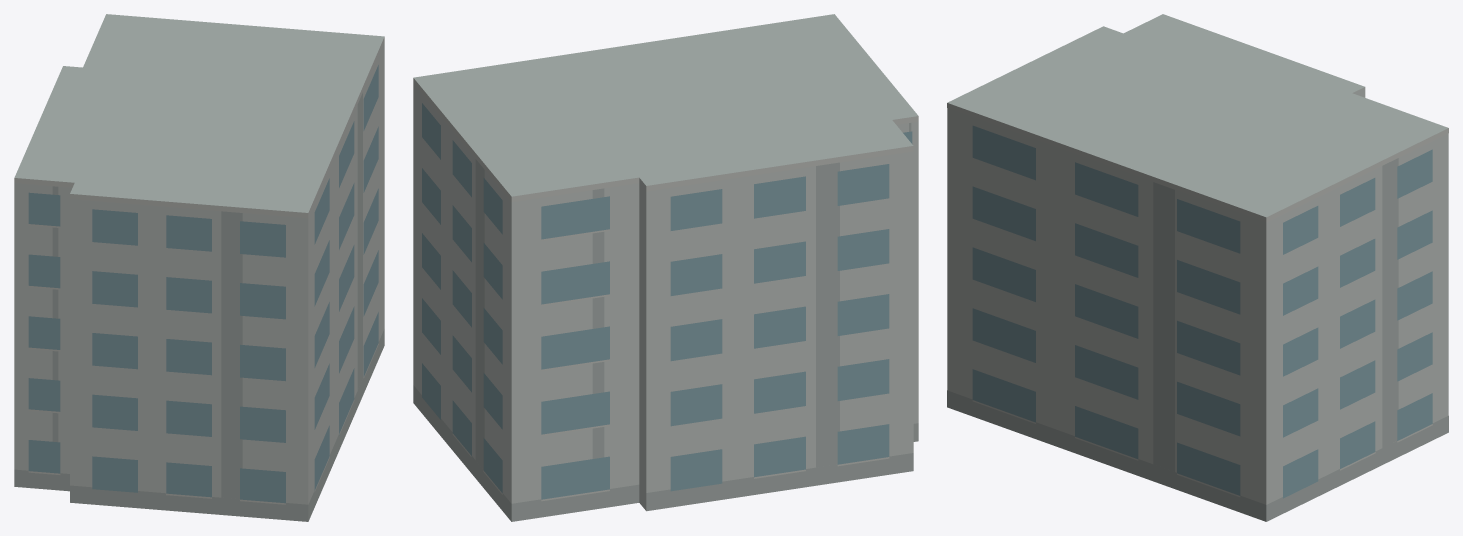
Rendered from survey-upis-32952085.glb.
3 renders of one model, left to right at view 1: azimuth 30°, elevation 25°; view 2: azimuth 150°, elevation 25°; view 3: azimuth 270°, elevation 25°, orthographic. The views are drawn at different scales.
Parts seen in each view (by area): view 1: survey-upis-32952085.tmp; view 2: survey-upis-32952085.tmp; view 3: survey-upis-32952085.tmp.
Boxes of the visible parts, x1=… form: survey-upis-32952085.tmp: x1=14, y1=14, x2=384, y2=521; survey-upis-32952085.tmp: x1=413, y1=14, x2=918, y2=521; survey-upis-32952085.tmp: x1=947, y1=14, x2=1448, y2=521.
Size of the model in its own units: 20.2 by 14.1 by 21.06.
